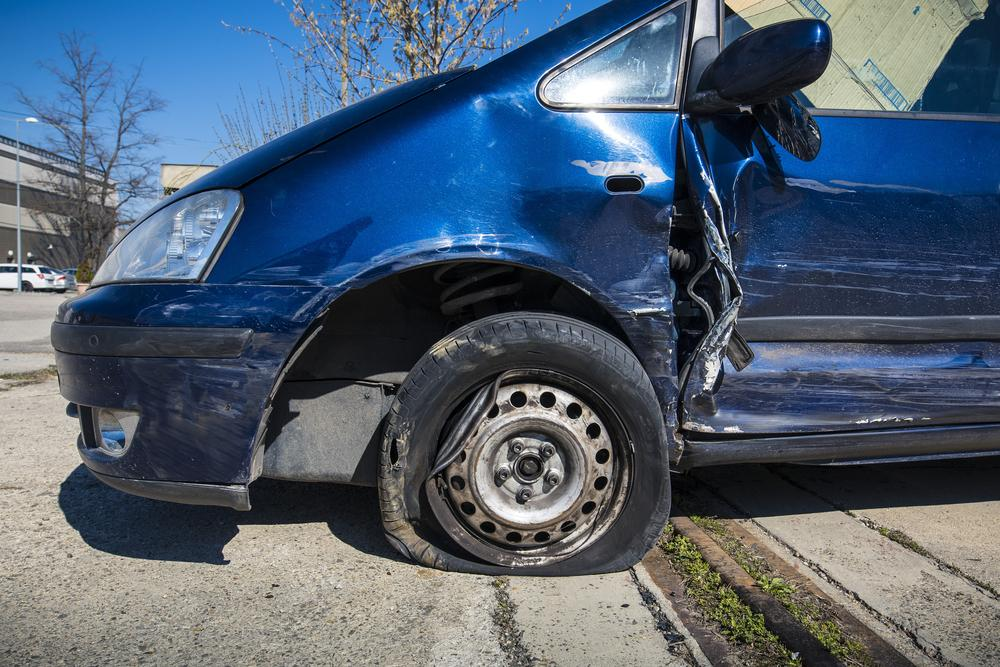dent: (457, 94, 663, 271), (732, 163, 971, 253)
scratch: (128, 237, 449, 457), (745, 237, 1000, 303), (718, 364, 1000, 423), (587, 250, 678, 419)
tire flat: (376, 311, 671, 577)
